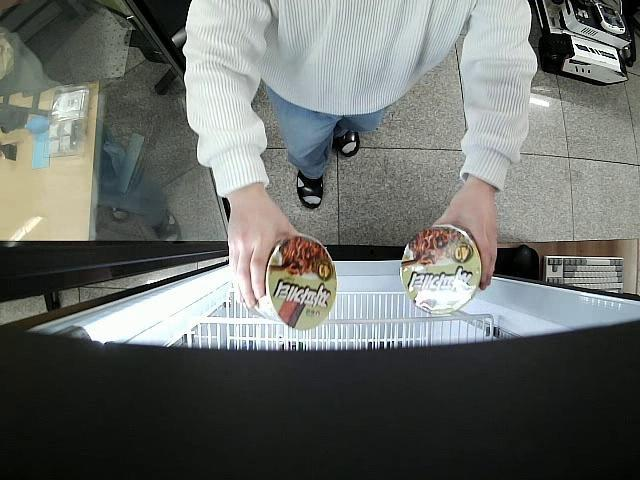03_chapagetti_L: (242, 235, 336, 332), (400, 225, 481, 316)
